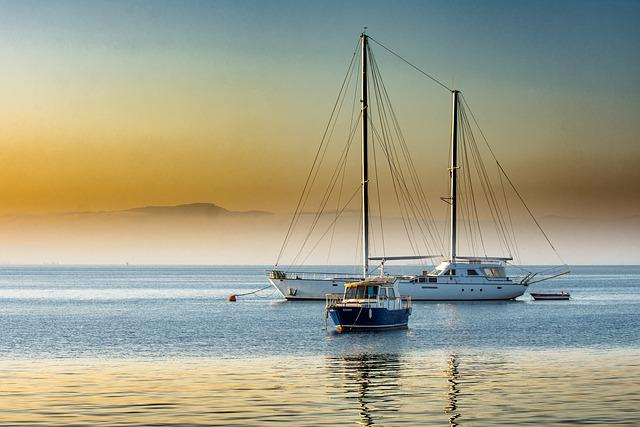Ship: (269, 32, 570, 302), (327, 277, 412, 332), (531, 292, 571, 301)
